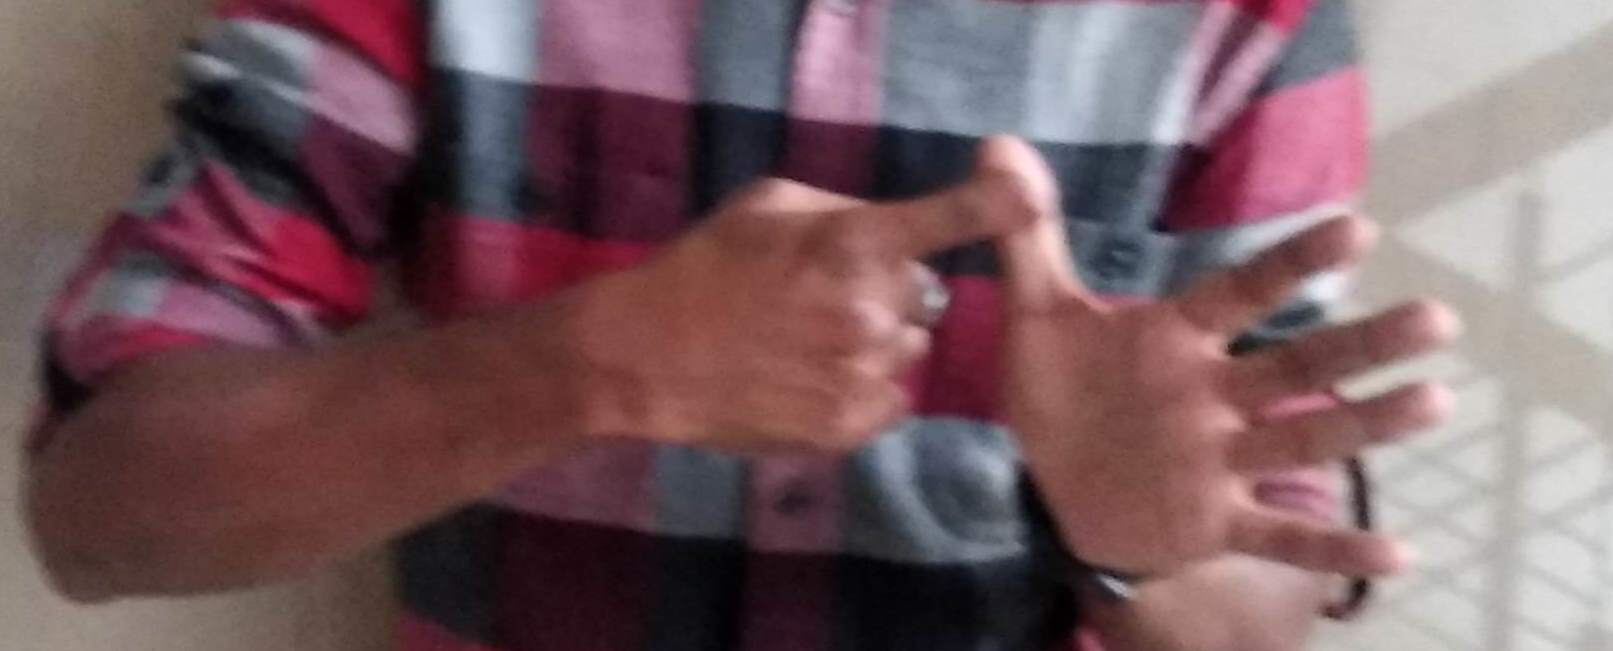a: (678, 138, 1436, 586)
